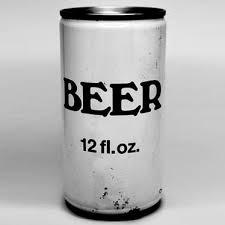beer: (57, 6, 165, 223)
